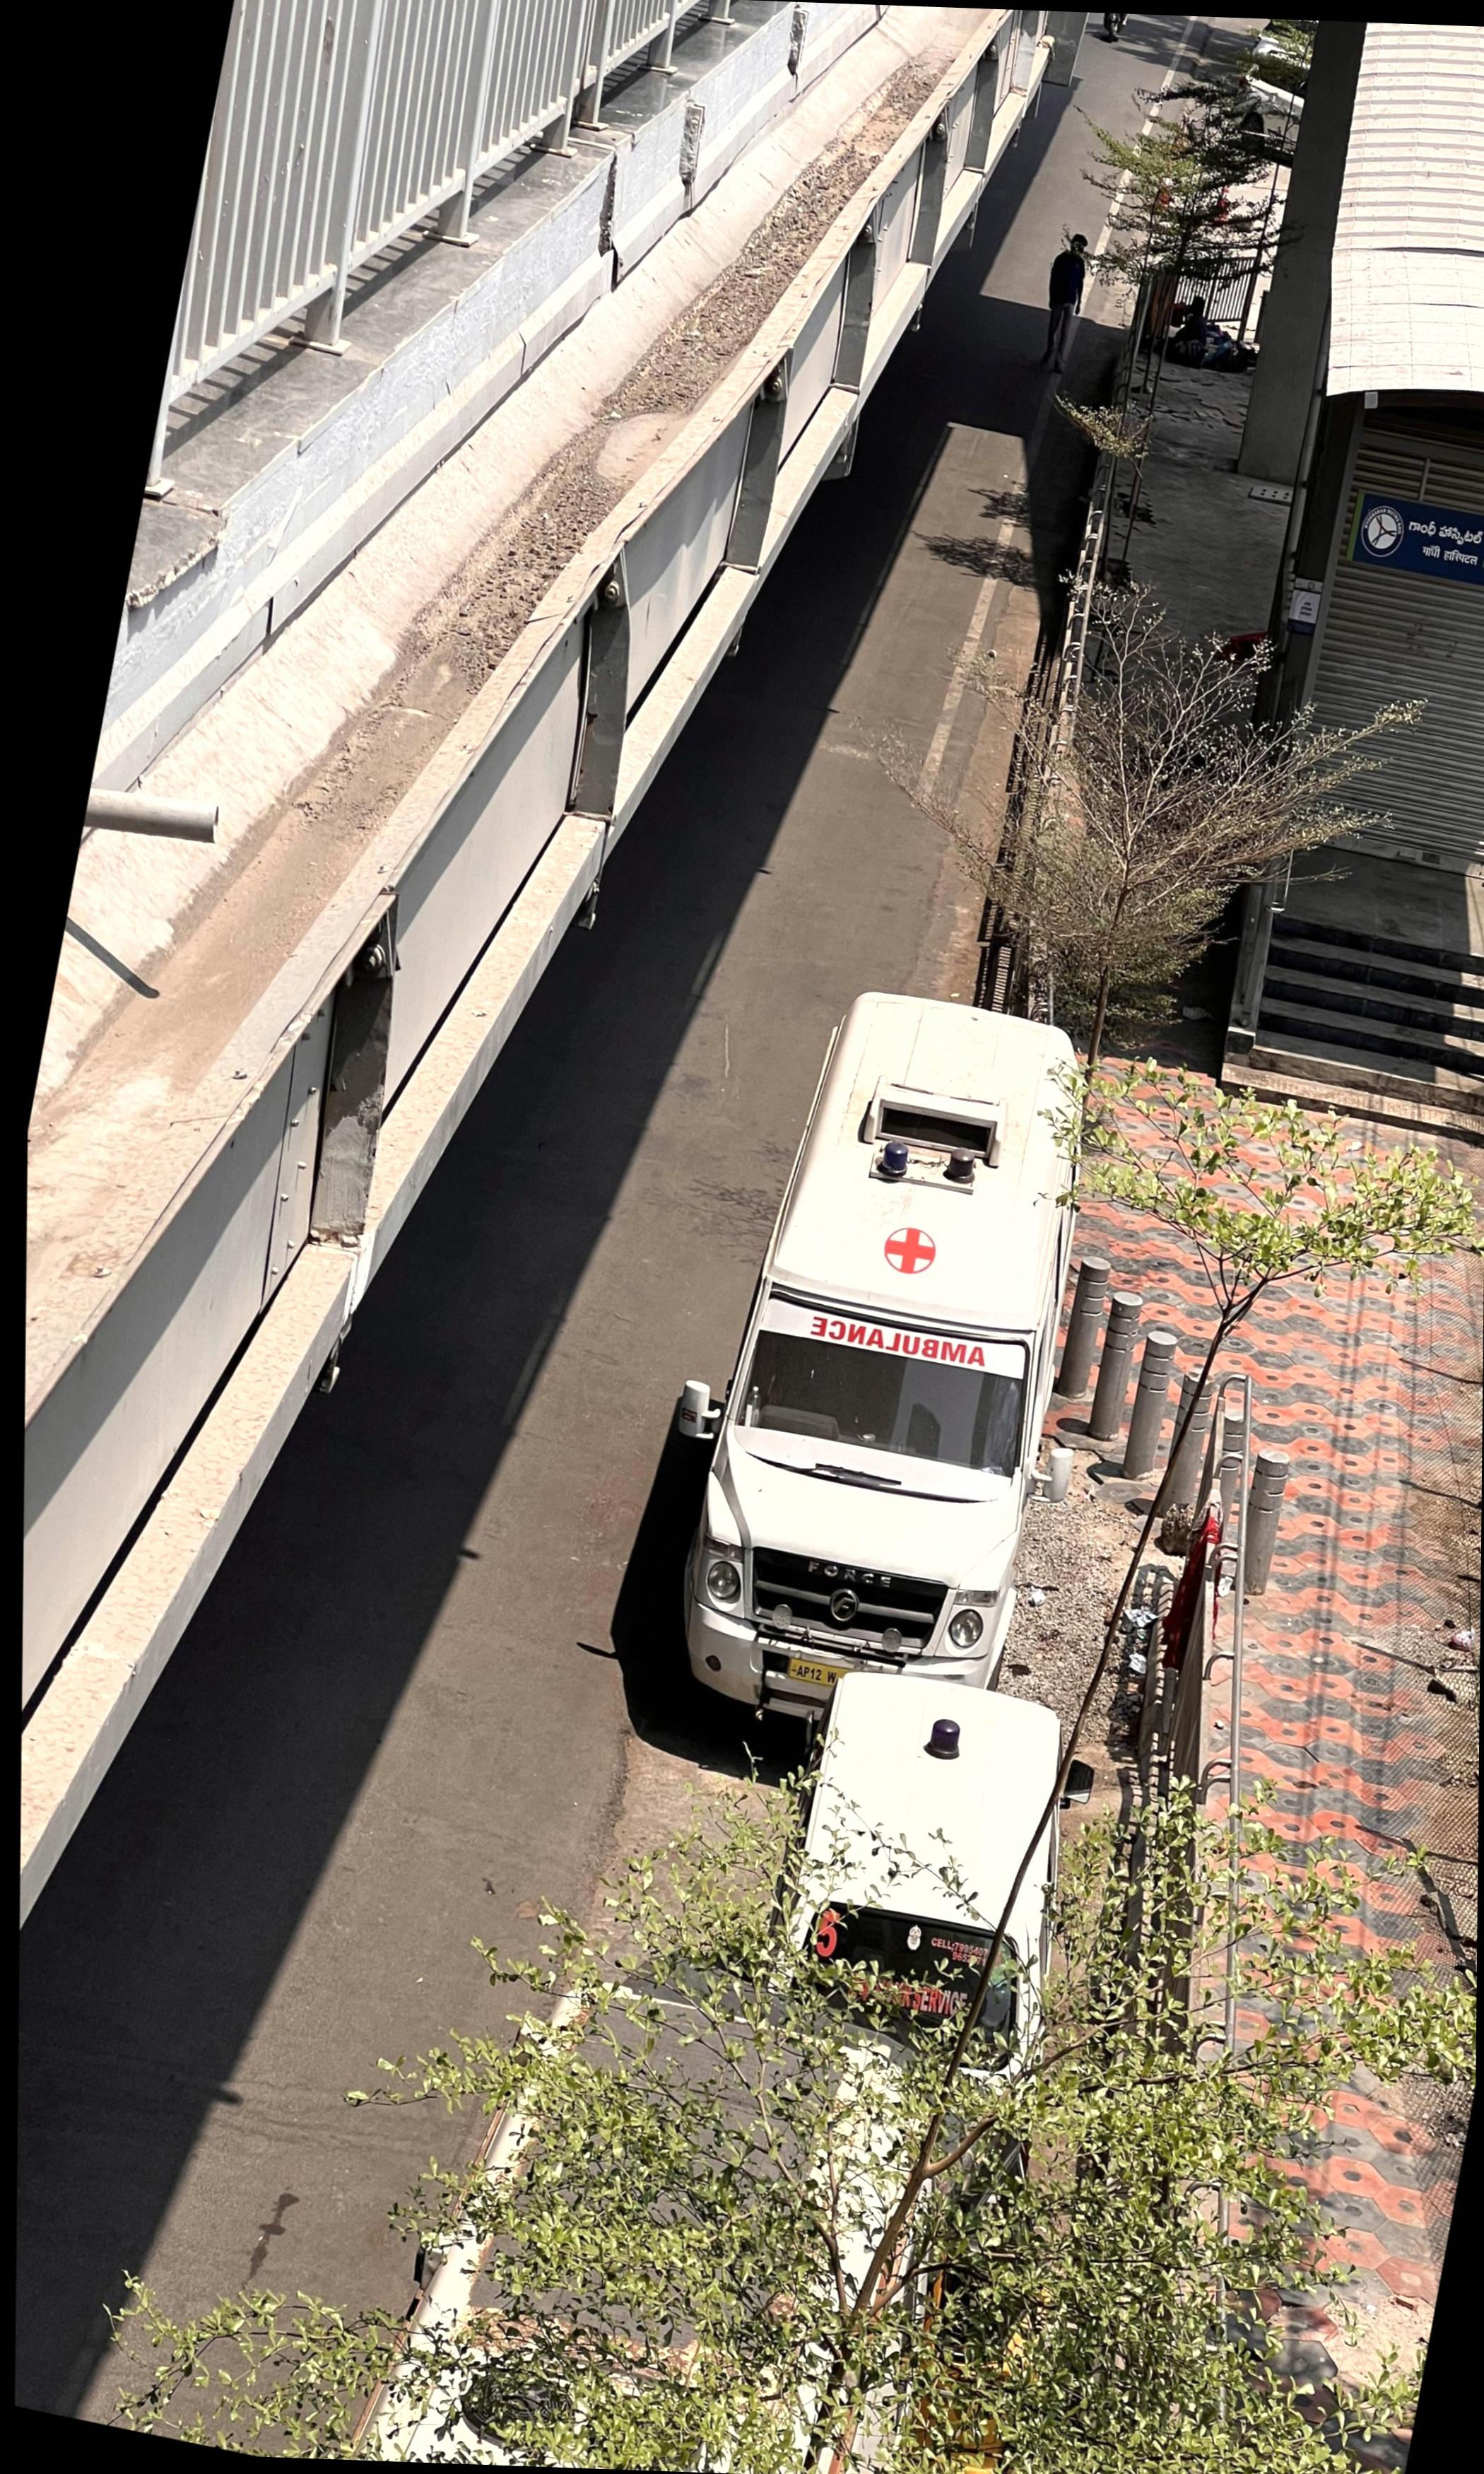ambulance: (694, 1002, 1072, 1732)
